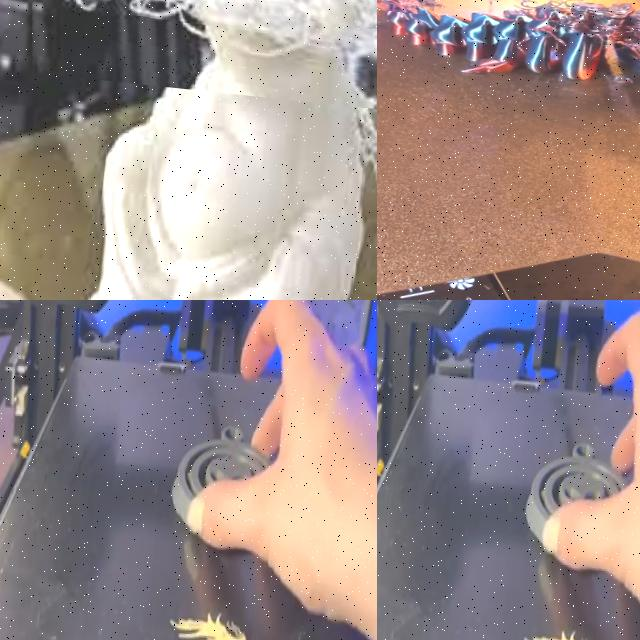spaghetti: (9, 0, 377, 119), (523, 0, 640, 98)
